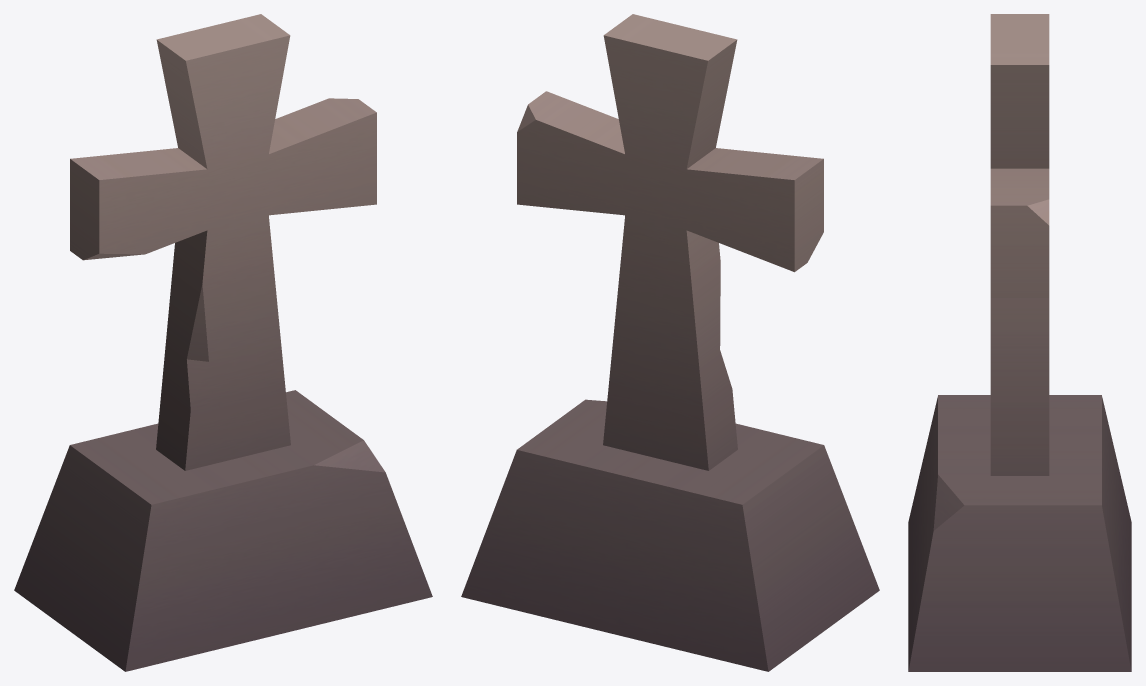
Rendered from tombstone6.glb.
The picture shows the model from 3 angles, left to right: view 1: azimuth 30°, elevation 25°; view 2: azimuth 150°, elevation 25°; view 3: azimuth 270°, elevation 25°; orthographic projection.
Visible parts, largest first — view 1: tombstone6; view 2: tombstone6; view 3: tombstone6.
Boxes of the visible parts, box(x1,y1,x2,y2) form: tombstone6: box(14, 14, 432, 671); tombstone6: box(461, 14, 879, 671); tombstone6: box(908, 14, 1131, 671).
Bounding box in the file's own units: 0.6756 × 1.17 × 0.4236.
1 material, 1 textured.
